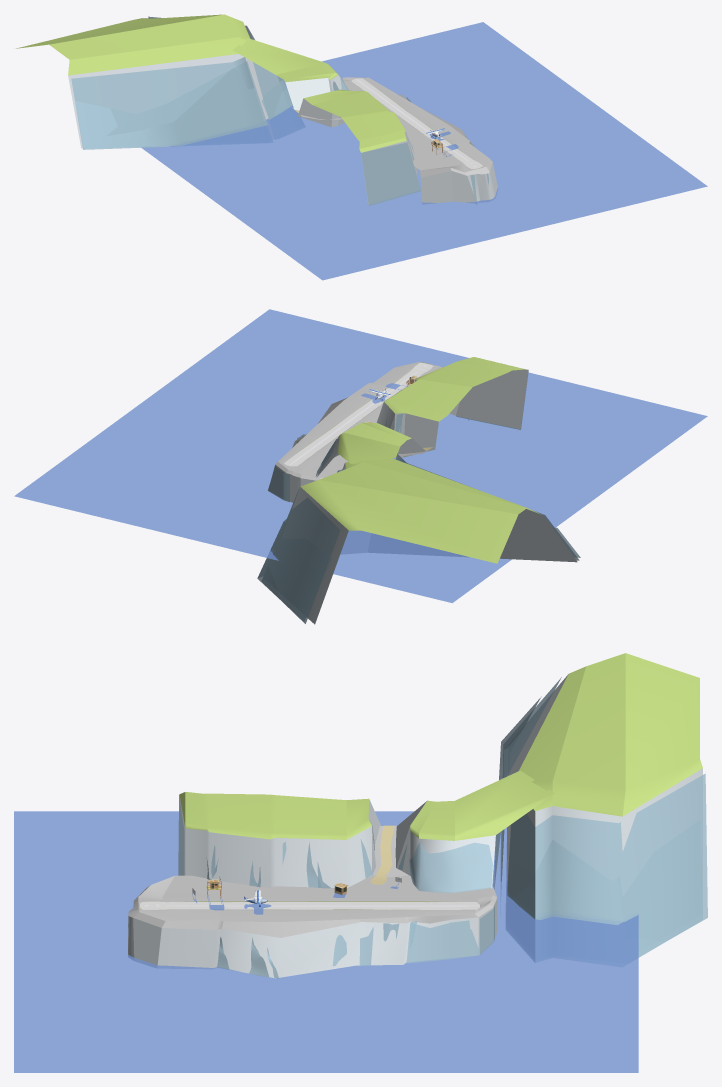
The model's file is AirportFBX.fbx.
The picture shows the model from 3 angles, top to bottom: view 1: azimuth 30°, elevation 25°; view 2: azimuth 150°, elevation 25°; view 3: azimuth 270°, elevation 25°; orthographic projection. The views are drawn at different scales.
Visible parts, largest first — view 1: sea_OBJ, rightCliff_OBJ, leftCliff_OBJ, cliff_OBJ, grass01_OBJ, grass_02_OBJ, road_OBJ, grass03_OBJ; view 2: sea_OBJ, rightCliff_OBJ, leftCliff_OBJ, grass03_OBJ, road_OBJ, grass_02_OBJ, cliff_OBJ, grass01_OBJ; view 3: sea_OBJ, rightCliff_OBJ, leftCliff_OBJ, cliff_OBJ, grass_02_OBJ, grass03_OBJ, grass01_OBJ, road_OBJ, townPath_OBJ.
Part boxes in pixels (bbox=[...]): sea_OBJ: bbox=[141, 22, 707, 280]; rightCliff_OBJ: bbox=[16, 14, 348, 149]; leftCliff_OBJ: bbox=[298, 89, 420, 205]; cliff_OBJ: bbox=[292, 97, 497, 204]; grass01_OBJ: bbox=[413, 141, 492, 177]; grass_02_OBJ: bbox=[392, 106, 469, 153]; road_OBJ: bbox=[351, 78, 482, 168]; grass03_OBJ: bbox=[342, 77, 417, 111]; sea_OBJ: bbox=[14, 309, 707, 603]; rightCliff_OBJ: bbox=[257, 422, 580, 624]; leftCliff_OBJ: bbox=[376, 357, 528, 457]; grass03_OBJ: bbox=[275, 425, 347, 480]; road_OBJ: bbox=[284, 363, 433, 466]; grass_02_OBJ: bbox=[317, 383, 401, 431]; cliff_OBJ: bbox=[268, 419, 468, 502]; grass01_OBJ: bbox=[369, 362, 442, 390]; sea_OBJ: bbox=[14, 811, 638, 1072]; rightCliff_OBJ: bbox=[395, 653, 707, 966]; leftCliff_OBJ: bbox=[178, 792, 380, 888]; cliff_OBJ: bbox=[128, 825, 497, 978]; grass_02_OBJ: bbox=[221, 880, 362, 937]; grass03_OBJ: bbox=[359, 875, 497, 923]; grass01_OBJ: bbox=[128, 875, 227, 929]; road_OBJ: bbox=[139, 901, 479, 909]; townPath_OBJ: bbox=[370, 825, 394, 884].
Bounding box in the file's own units: 945 × 228 × 910.
